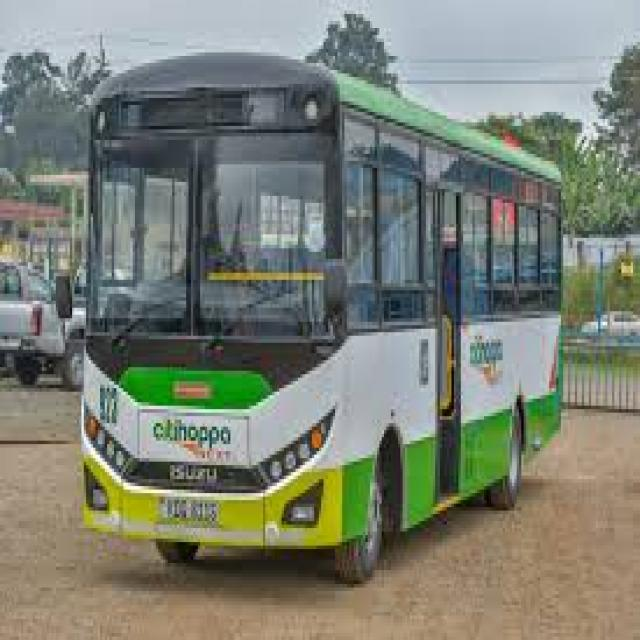bus: (34, 5, 591, 598)
